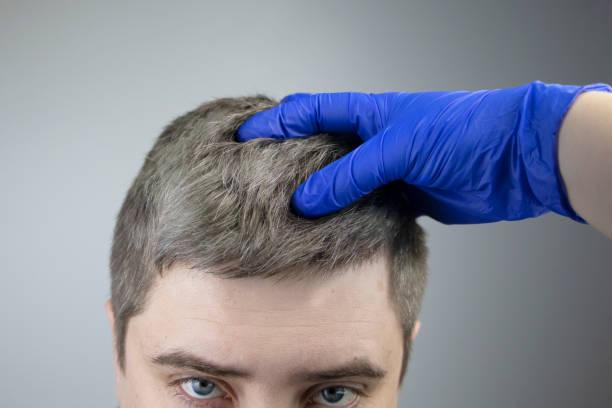dry hair: (223, 236, 332, 276), (329, 215, 379, 254), (249, 145, 278, 198), (292, 138, 335, 165)
